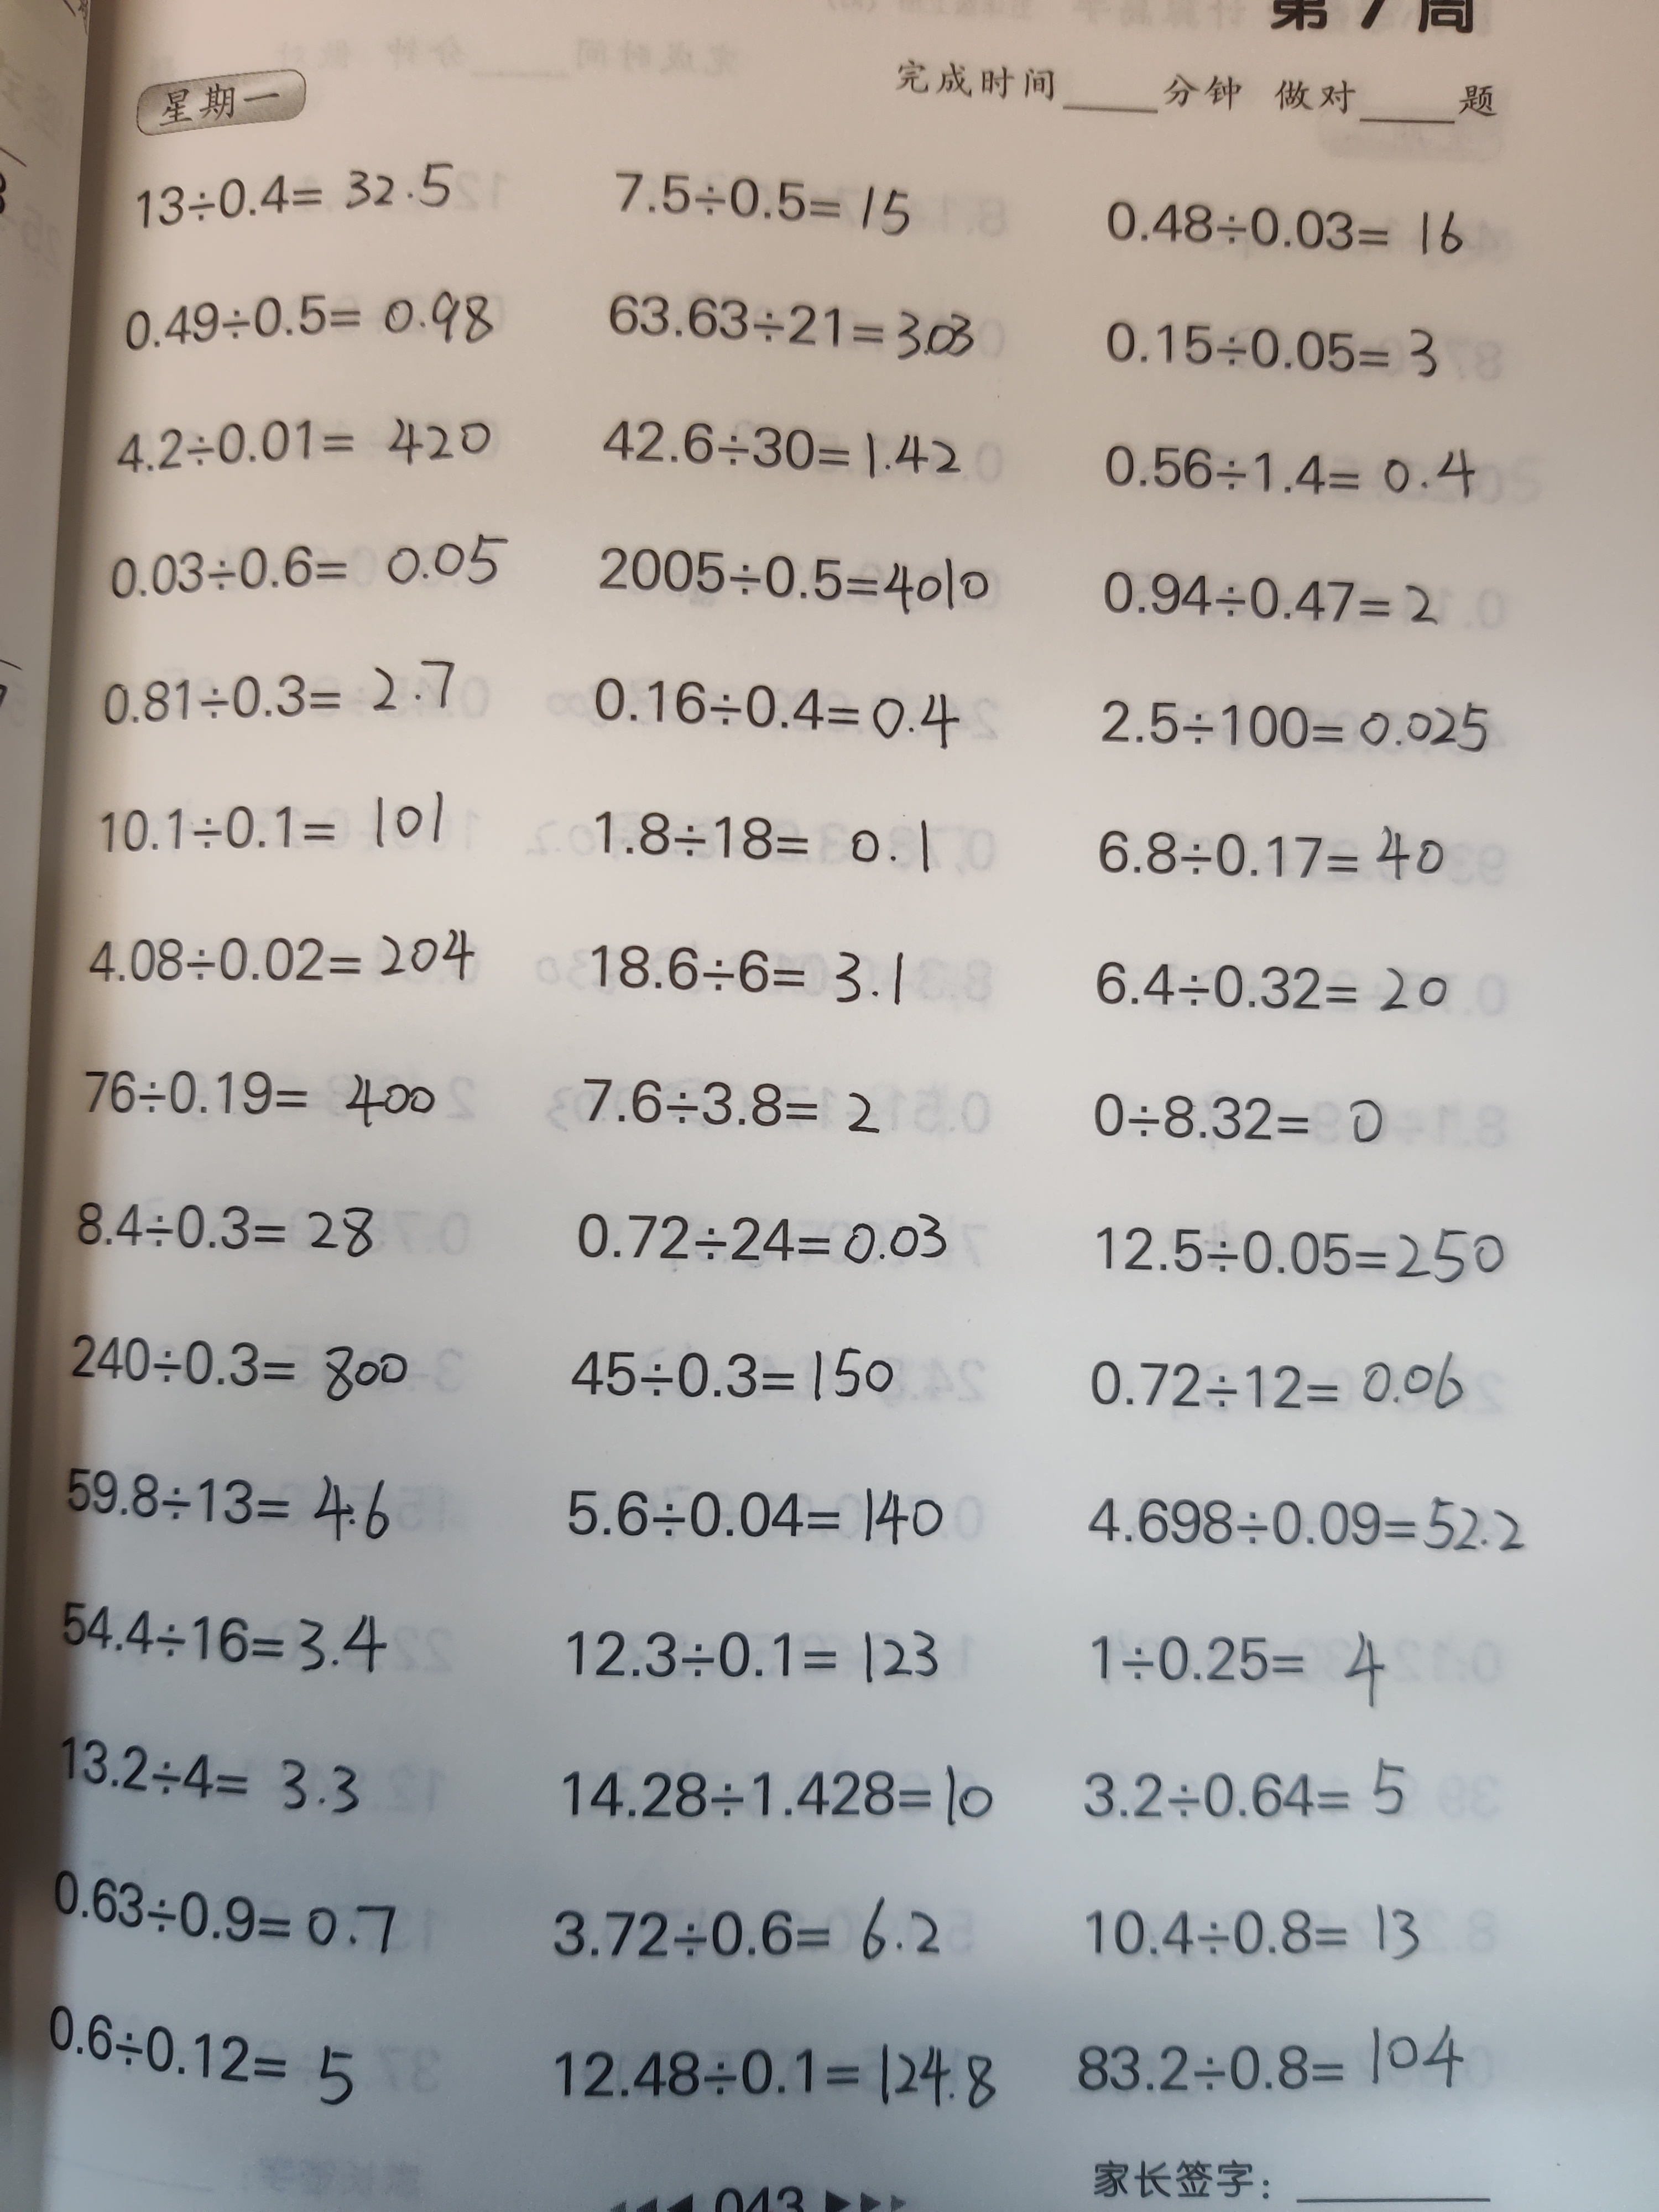equation: (1072, 158, 1481, 282), (1065, 1461, 1537, 1568), (537, 2020, 1012, 2125), (1061, 2005, 1478, 2121), (540, 1461, 962, 1573), (580, 394, 983, 510), (547, 1883, 960, 1993), (1087, 676, 1509, 782), (598, 779, 955, 904), (547, 1176, 958, 1282), (549, 1750, 1004, 1846), (1075, 291, 1466, 402), (580, 531, 1006, 632), (80, 763, 458, 874), (44, 1857, 408, 1972), (587, 270, 990, 373), (59, 1317, 432, 1426), (1086, 942, 1467, 1049), (42, 1998, 378, 2118), (92, 392, 502, 488), (556, 1317, 908, 1426), (85, 643, 472, 742), (579, 658, 965, 758), (1072, 1339, 1480, 1433), (52, 1587, 408, 1693), (598, 134, 929, 247), (1066, 1743, 1424, 1848), (582, 918, 927, 1026), (54, 1453, 410, 1557), (54, 1170, 401, 1277), (80, 911, 502, 998), (579, 1043, 908, 1155), (52, 1717, 371, 1831), (1086, 1207, 1525, 1289), (1073, 808, 1455, 902), (1082, 556, 1455, 650), (554, 1618, 950, 1705), (1072, 1888, 1429, 1984), (1080, 425, 1481, 510), (110, 282, 509, 368), (63, 1049, 436, 1137), (98, 524, 525, 601), (1054, 1618, 1412, 1709), (1080, 1069, 1399, 1167), (110, 146, 460, 233)
